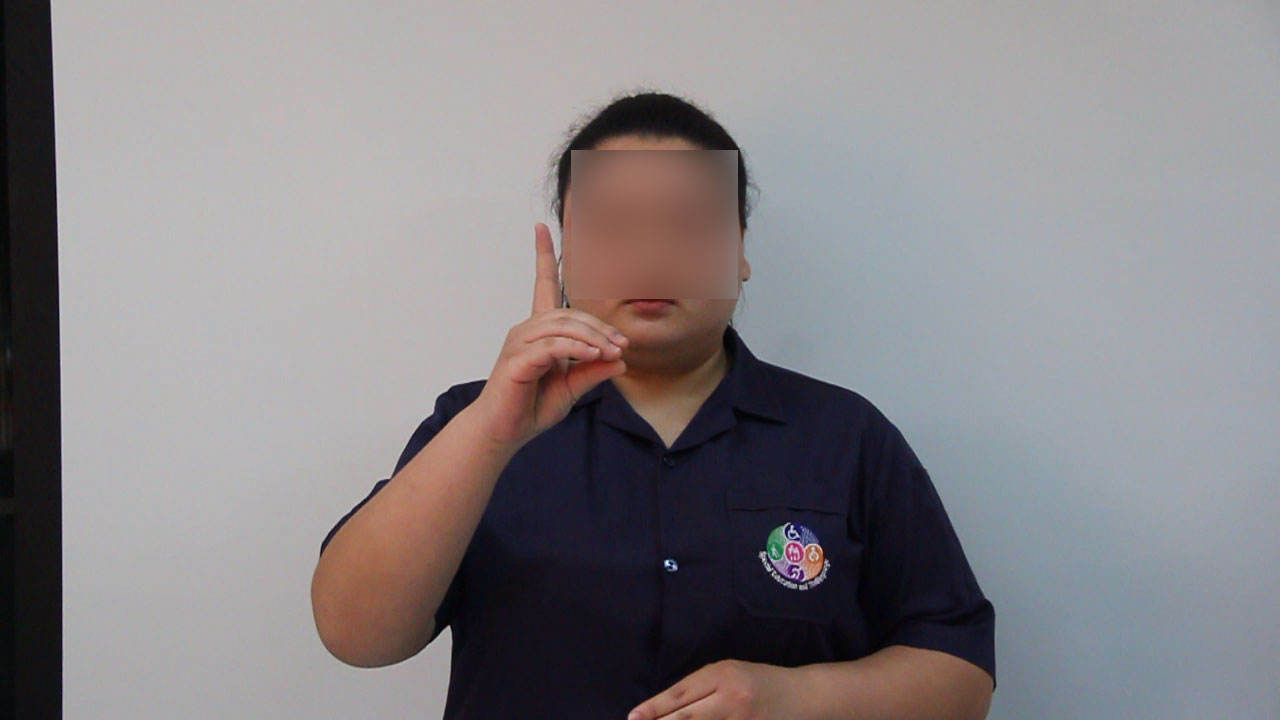dor: (475, 215, 636, 447)
